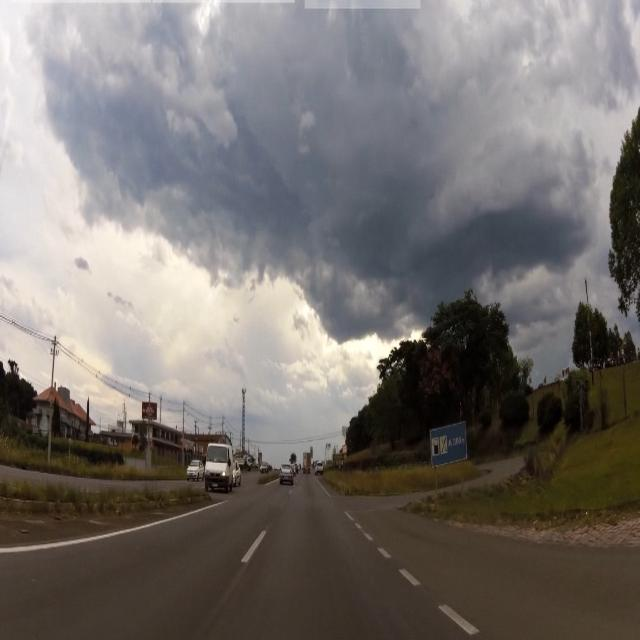LOC-6: (432, 422, 466, 467)
